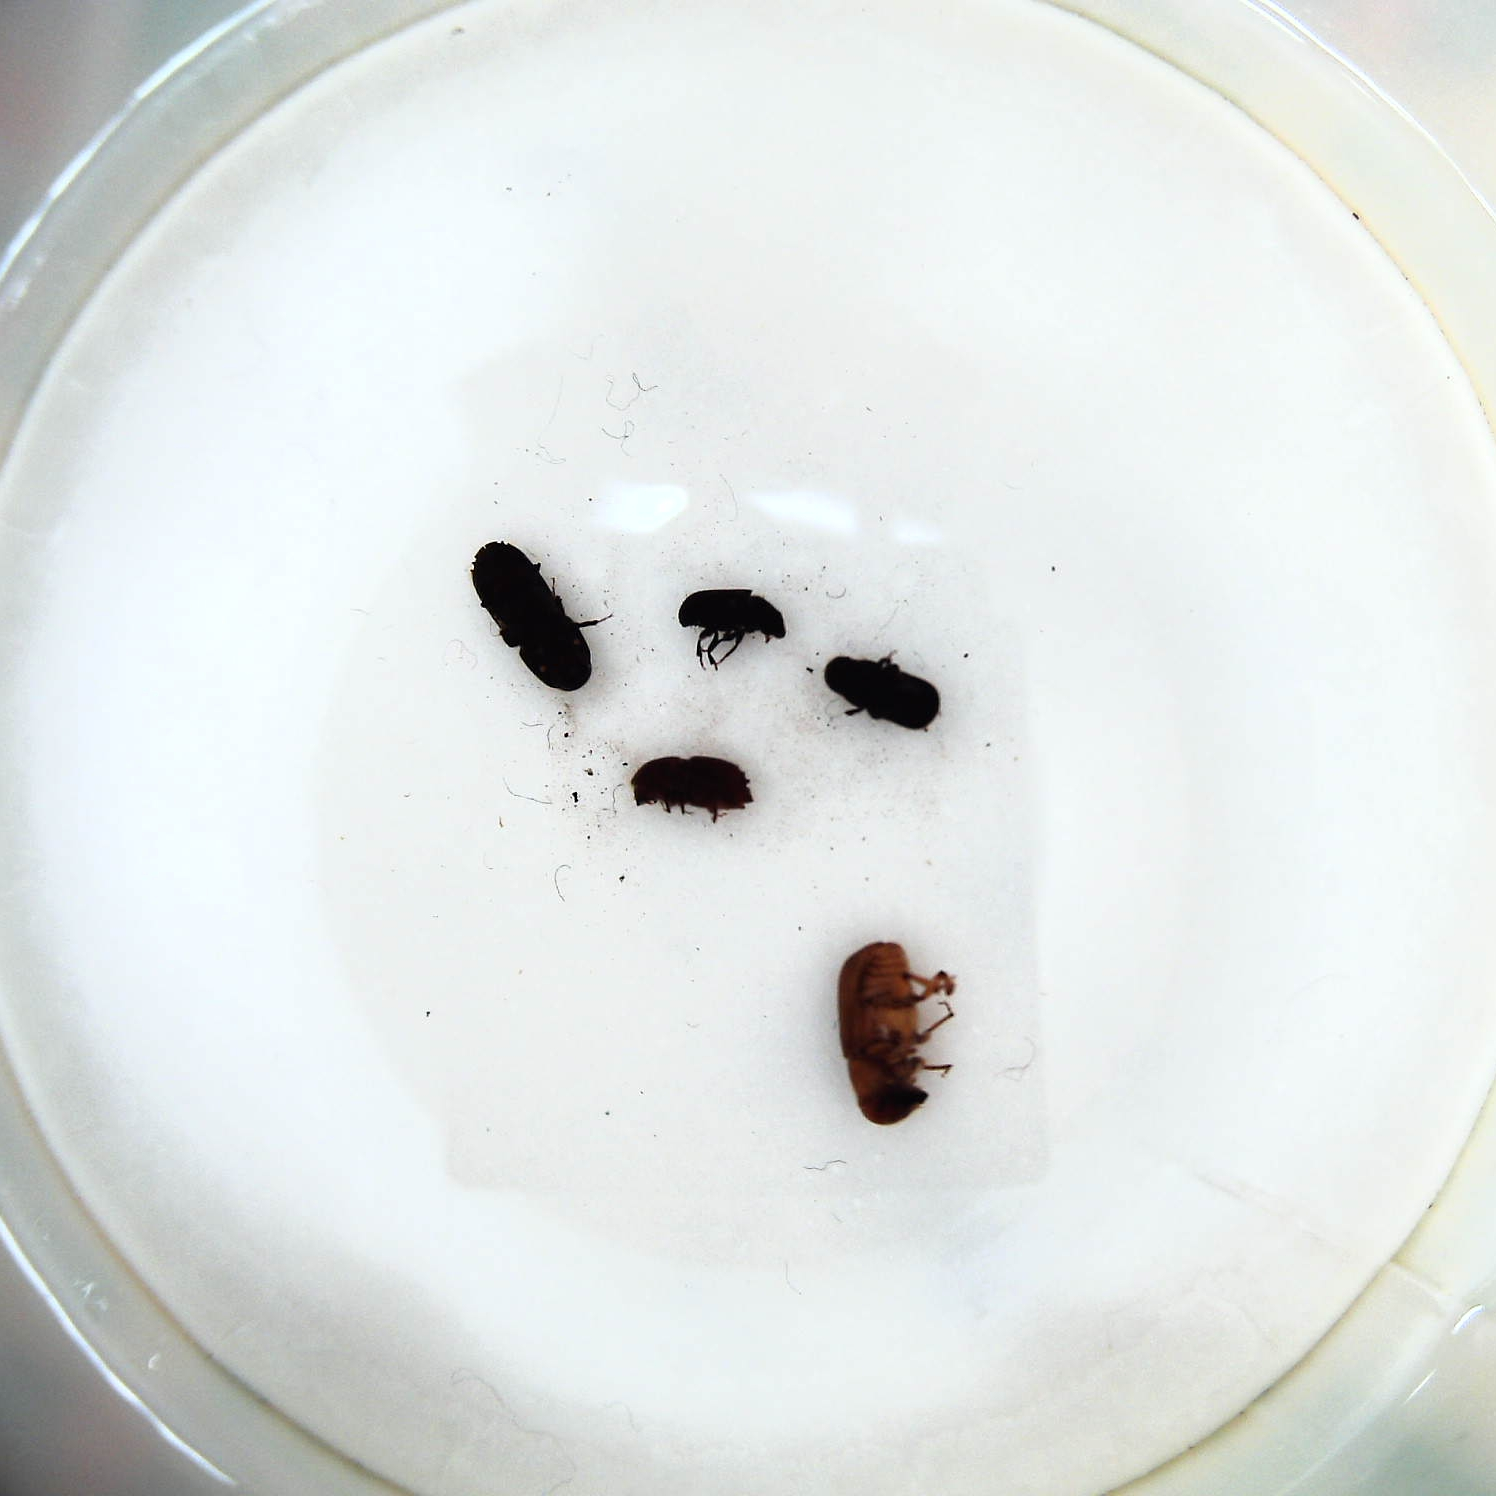Boerner: (466, 540, 601, 695)
Leconte: (832, 940, 962, 1127)
armandi: (818, 655, 945, 736)
coleoptera: (674, 586, 796, 673)
linnaeus: (627, 749, 758, 825)
